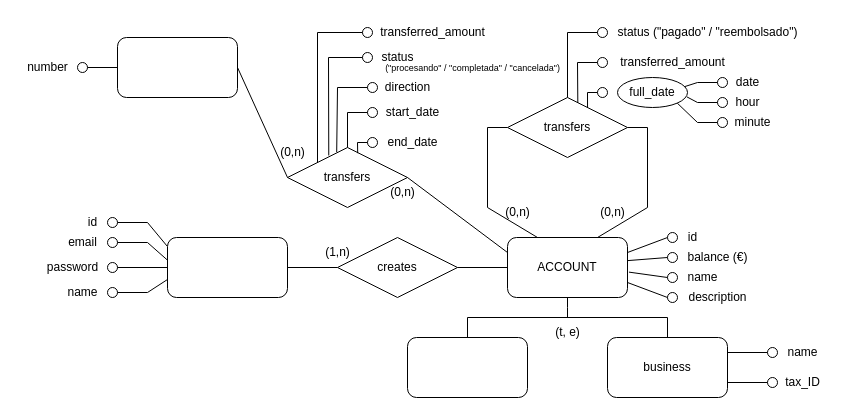
The diagram is 849 pixels wide and 415 high, and some of its shapes have lost their labels. Each missing label, with the centre of its shape:
BANK_ACCOUNT: pixel 177 67
NORMAL: pixel 467 367
USER: pixel 227 267
